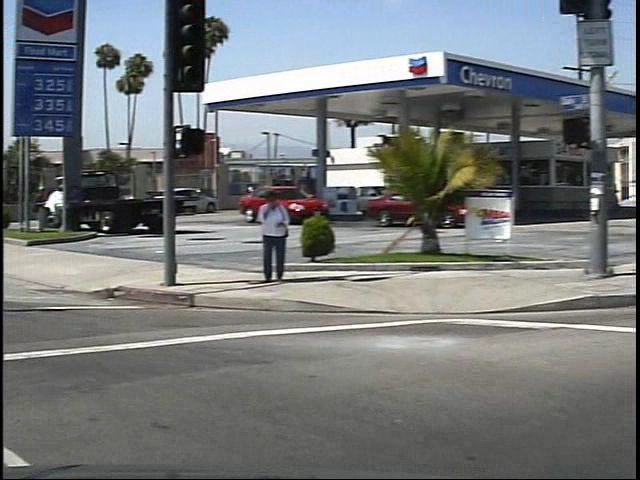person: (246, 188, 283, 288)
